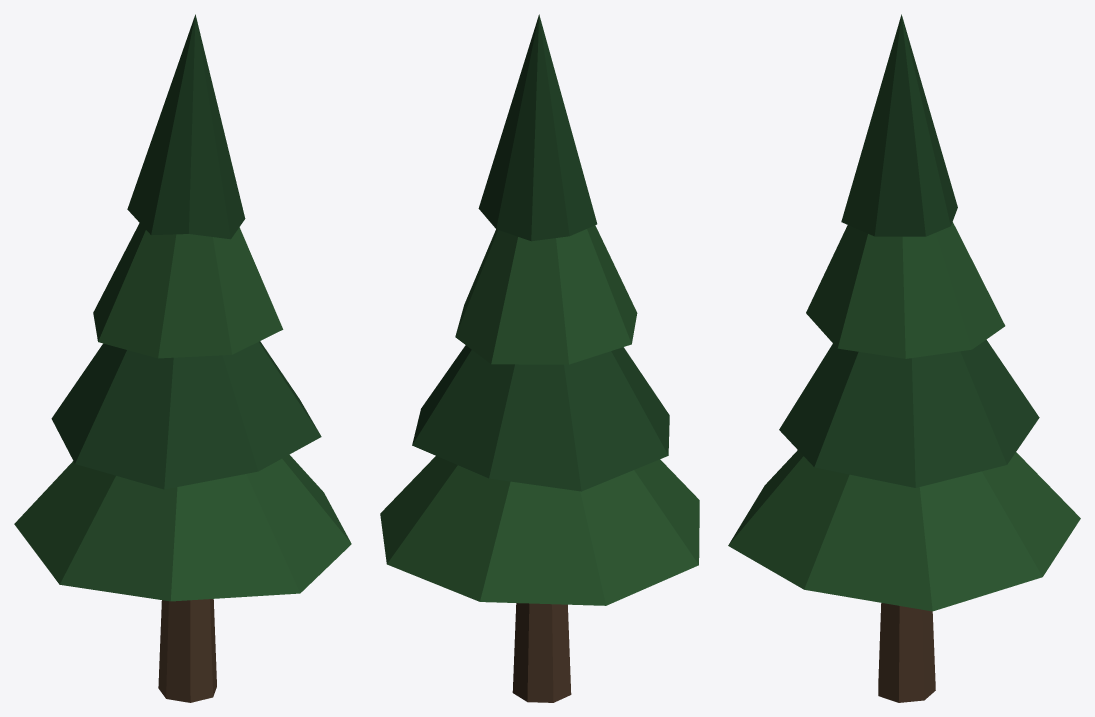
Rendered from PineTall.glb.
3 renders of one model, left to right at view 1: azimuth 30°, elevation 25°; view 2: azimuth 150°, elevation 25°; view 3: azimuth 270°, elevation 25°, orthographic.
Parts seen in each view (by area): view 1: PineTall; view 2: PineTall; view 3: PineTall.
Boxes of the visible parts, box(x1,y1,x2,y2) form: PineTall: box(14, 14, 351, 702); PineTall: box(380, 14, 699, 702); PineTall: box(728, 14, 1080, 702).
Size of the model in its own units: 7.82 by 17.31 by 8.15.
